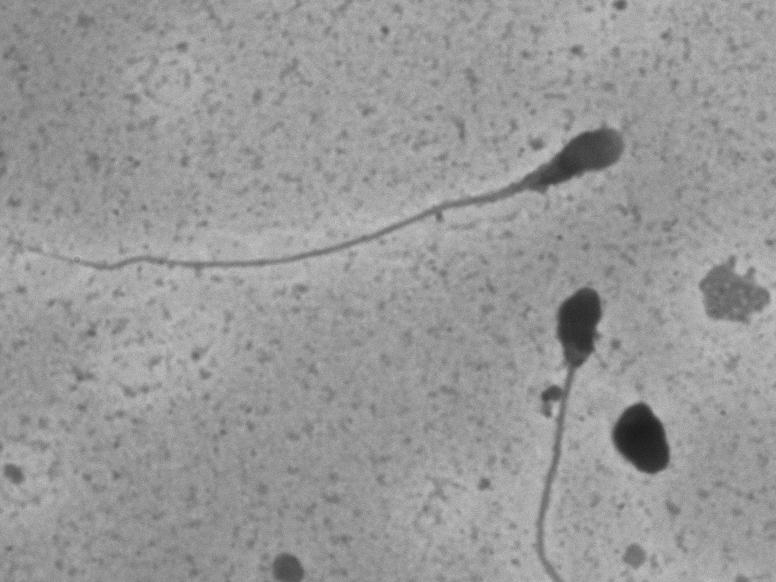Abnormal: (24, 92, 664, 322), (510, 259, 607, 576)
